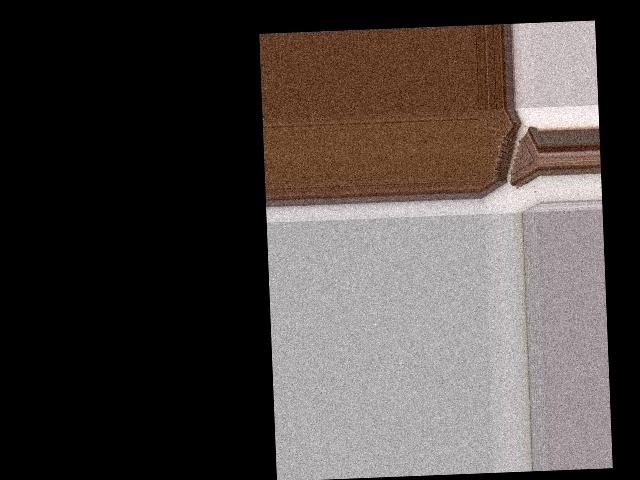chocolate: (479, 108, 540, 199)
